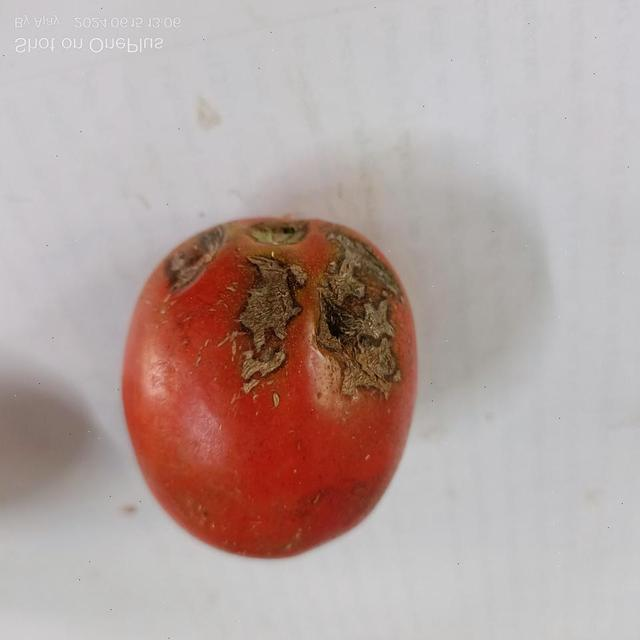Bacterial Spot Fruit: (38, 47, 237, 219)
